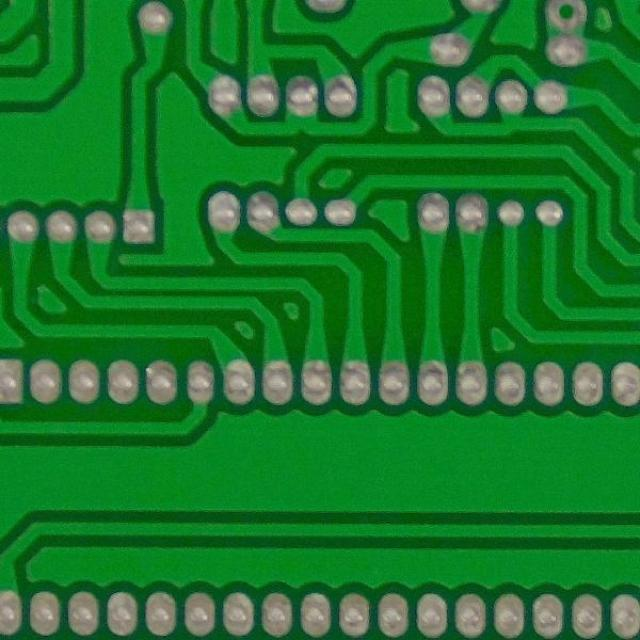Missing_Hole: (540, 1, 594, 32)
